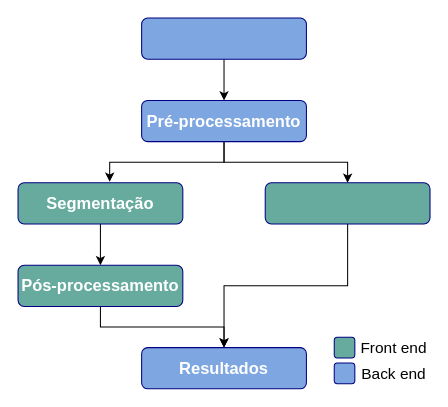
Some shapes in this 448 by 407 pixel diagram are drawn without their labels. Each missing label, with the centre of its shape:
"Detecção da Escala" belongs at (x=347, y=203).
"Tirar foto" belongs at (x=223, y=38).
